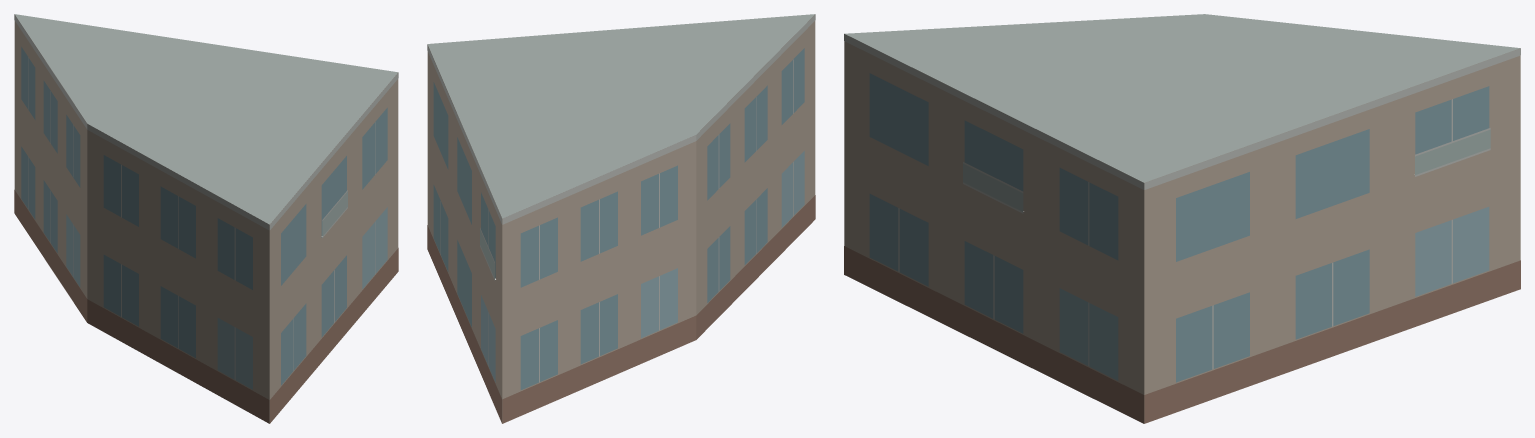
Rendered from survey-upis-32988146.glb.
The picture shows the model from 3 angles, left to right: view 1: azimuth 30°, elevation 25°; view 2: azimuth 150°, elevation 25°; view 3: azimuth 270°, elevation 25°; orthographic projection. The views are drawn at different scales.
Visible parts, largest first — view 1: survey-upis-32988146.tmp; view 2: survey-upis-32988146.tmp; view 3: survey-upis-32988146.tmp.
Boxes of the visible parts, x1,y1,x2,y2 form: survey-upis-32988146.tmp: [14, 14, 398, 423]; survey-upis-32988146.tmp: [427, 14, 815, 423]; survey-upis-32988146.tmp: [844, 14, 1520, 423].
Size of the model in its own units: 12.03 by 8 by 20.36.
